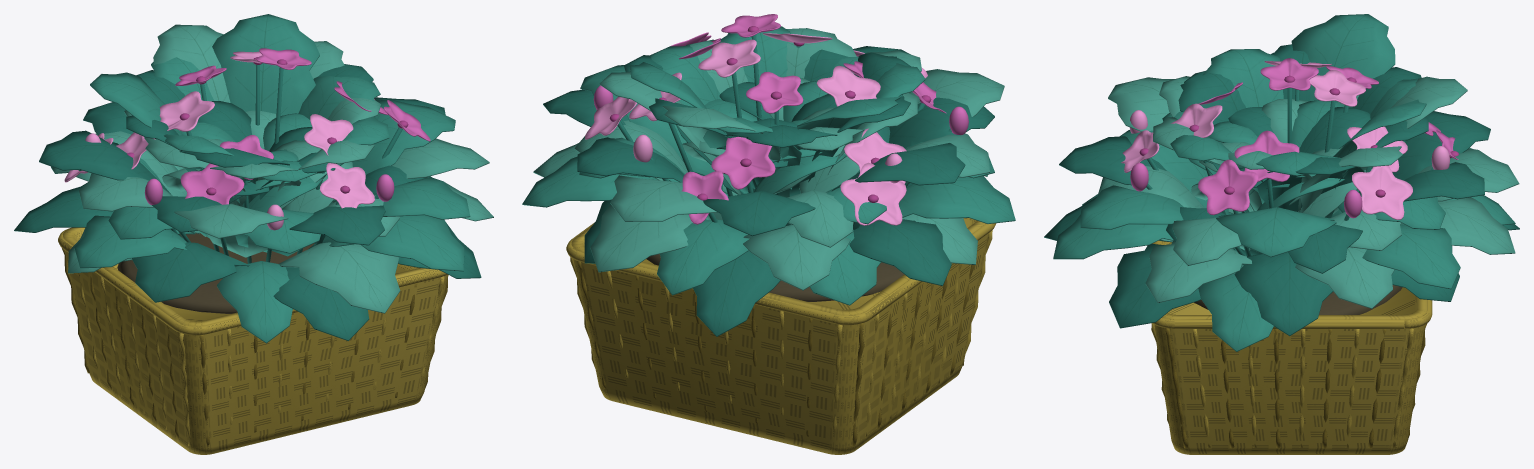
The model's file is FlowerBasket_FUR04.fbx.
3 views of the same model, side by side, from view 1: azimuth 30°, elevation 25°; view 2: azimuth 150°, elevation 25°; view 3: azimuth 270°, elevation 25° (orthographic). The views are drawn at different scales.
Parts seen in each view (by area): view 1: FlowerBasket; view 2: FlowerBasket; view 3: FlowerBasket.
Part boxes in pixels (bbox=[...]): FlowerBasket: bbox=[14, 14, 493, 454]; FlowerBasket: bbox=[522, 14, 1015, 454]; FlowerBasket: bbox=[1044, 14, 1519, 454].
Bounding box in the file's own units: 0.2517 × 0.1975 × 0.251.
1 material, 1 textured.
